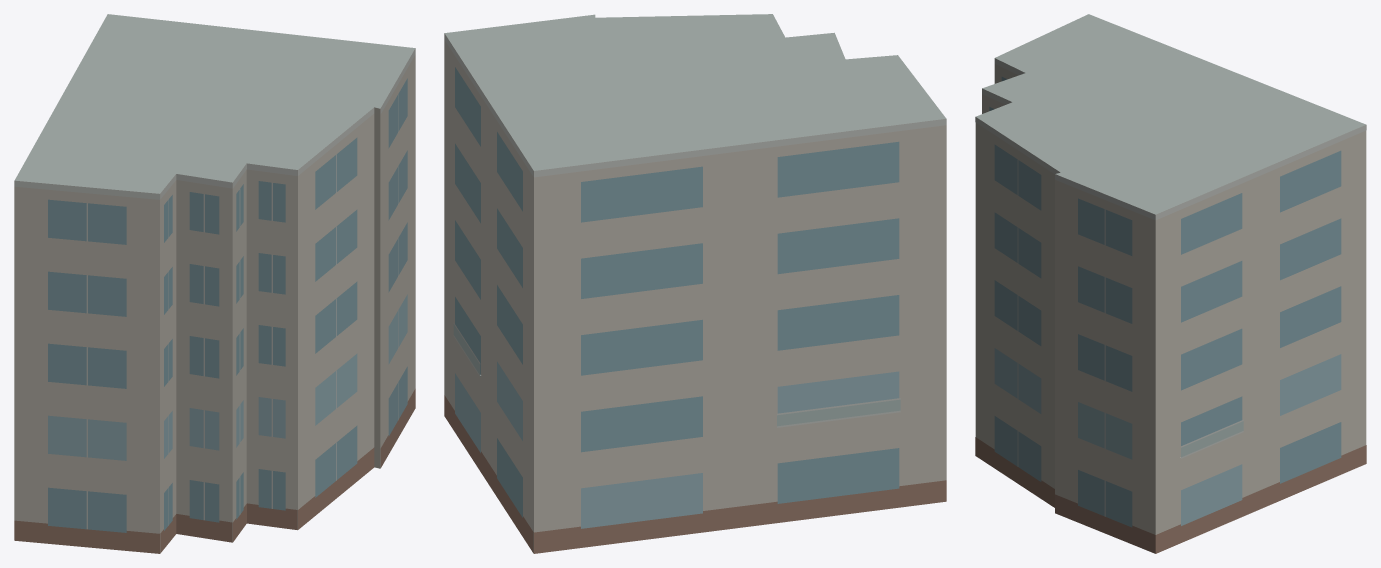
The model's file is survey-upis-33016622.glb.
3 renders of one model, left to right at view 1: azimuth 30°, elevation 25°; view 2: azimuth 150°, elevation 25°; view 3: azimuth 270°, elevation 25°, orthographic. The views are drawn at different scales.
Visible parts, largest first — view 1: survey-upis-33016622.tmp; view 2: survey-upis-33016622.tmp; view 3: survey-upis-33016622.tmp.
Part boxes in pixels (x1,y1,x2,y2): survey-upis-33016622.tmp: (14,14,415,553); survey-upis-33016622.tmp: (444,14,946,553); survey-upis-33016622.tmp: (975,14,1366,553).
Bounding box in the file's own units: 18.41 × 14.5 × 15.15.
